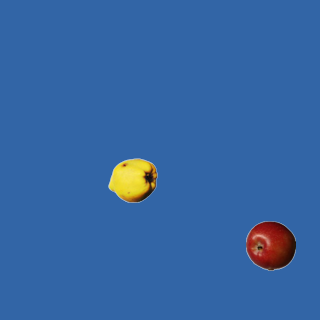Apple Braeburn: (245, 220, 295, 270)
Quince: (107, 155, 157, 205)
